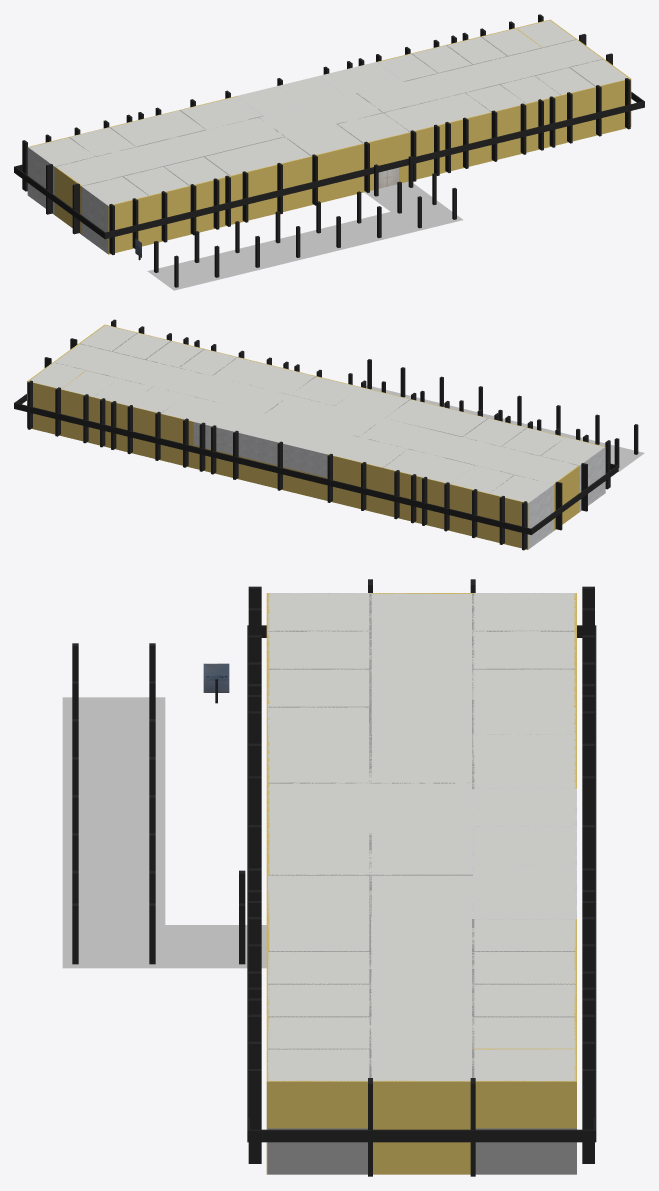
The picture shows the model from 3 angles, top to bottom: view 1: azimuth 30°, elevation 25°; view 2: azimuth 150°, elevation 25°; view 3: azimuth 270°, elevation 25°; orthographic projection. The views are drawn at different scales.
Visible parts, largest first — view 1: Andar01__Predio__Est__ForroSemCol, Corredor__Externo, Cubo.014, Andar01__Larces__Est__ParedeFundo, Andar01__Embrapii__Est__ParedeFundo, Andar00__Sala002__Est__ParedeFundo.011, Andar00__Sala002__Est__ParedeFundo.008, Andar01__Escada__Est__ParedeFundo, Andar01__Secretaria__Est__ParedeFundo, Andar01__Lagic__Est__ParedeFundo, Cubo.005, Andar00__Recepcao__Est__ParedeEsquerda.001 (+15 smaller); view 2: Andar01__Predio__Est__ForroSemCol, Cubo, Andar00__CAIS__Est__ParedeFundo, Andar00__Sala002__Est__ParedeFundo.007, Andar01__Incubauece__Est__ParedeFundo, Andar00__Sala002__Est__ParedeFundo.012, Andar01__GesadPesquisa__Est__ParedeFundo, Corredor__Externo, Andar01__Copa__Est__ParedeFundo, Andar01__BanheiroFeminino__Est__ParedeFundo, Andar01__Lamac__Est__ParedeFundo, Andar01__BanheiroMasculino__Est__ParedeFundo (+18 smaller); view 3: Andar01__Predio__Est__ForroSemCol, Corredor__Externo, Cubo.002, Andar01__Sala112__Est__ParedeEsquerda, Andar01__Sala111__Est__ParedeDireita, Andar01__Corredor__Est__ParedeDireita, Andar00__CAIS__Est__ParedeEsquerda, Andar00__Sala002__Est__ParedeDireita, Andar00__Corredor__Est__ParedeDireita, Coluna.022, Coluna.041, Cubo (+1 smaller).
Part boxes in pixels (x1,y1,x2,y2): Andar01__Predio__Est__ForroSemCol: [29, 20, 629, 204]; Corredor__Externo: [147, 181, 462, 290]; Cubo.014: [105, 101, 643, 238]; Andar01__Larces__Est__ParedeFundo: [231, 156, 311, 200]; Andar01__Embrapii__Est__ParedeFundo: [414, 112, 491, 155]; Andar00__Sala002__Est__ParedeFundo.011: [213, 181, 311, 228]; Andar00__Sala002__Est__ParedeFundo.008: [416, 133, 508, 179]; Andar01__Escada__Est__ParedeFundo: [311, 143, 364, 180]; Andar01__Secretaria__Est__ParedeFundo: [364, 132, 410, 166]; Andar01__Lagic__Est__ParedeFundo: [149, 186, 190, 220]; Cubo.005: [108, 215, 172, 254]; Andar00__Recepcao__Est__ParedeEsquerda.001: [312, 168, 364, 204]; Andar01__Predio__Est__ForroSemCol: [29, 325, 603, 502]; Cubo: [15, 403, 530, 534]; Andar00__CAIS__Est__ParedeFundo: [31, 406, 166, 461]; Andar00__Sala002__Est__ParedeFundo.007: [331, 479, 410, 521]; Andar01__Incubauece__Est__ParedeFundo: [383, 468, 445, 505]; Andar00__Sala002__Est__ParedeFundo.012: [166, 438, 249, 481]; Andar01__GesadPesquisa__Est__ParedeFundo: [327, 454, 382, 491]; Corredor__Externo: [366, 385, 644, 471]; Andar01__Copa__Est__ParedeFundo: [193, 421, 249, 458]; Andar01__BanheiroFeminino__Est__ParedeFundo: [288, 445, 327, 477]; Andar01__Lamac__Est__ParedeFundo: [449, 484, 488, 516]; Andar01__BanheiroMasculino__Est__ParedeFundo: [250, 435, 288, 468]; Andar01__Predio__Est__ForroSemCol: [268, 593, 575, 1081]; Corredor__Externo: [62, 697, 266, 968]; Cubo.002: [247, 1129, 596, 1142]; Andar01__Sala112__Est__ParedeEsquerda: [475, 1080, 575, 1128]; Andar01__Sala111__Est__ParedeDireita: [268, 1080, 367, 1128]; Andar01__Corredor__Est__ParedeDireita: [373, 1080, 470, 1128]; Andar00__CAIS__Est__ParedeEsquerda: [475, 1128, 576, 1174]; Andar00__Sala002__Est__ParedeDireita: [268, 1128, 367, 1174]; Andar00__Corredor__Est__ParedeDireita: [373, 1128, 470, 1174]; Coluna.022: [248, 1069, 261, 1163]; Coluna.041: [582, 1069, 594, 1163]; Cubo: [593, 626, 596, 1129].
Size of the model in its own units: 93.2 by 8.5 by 41.6.
Materials: 12 (6 with a texture image).
